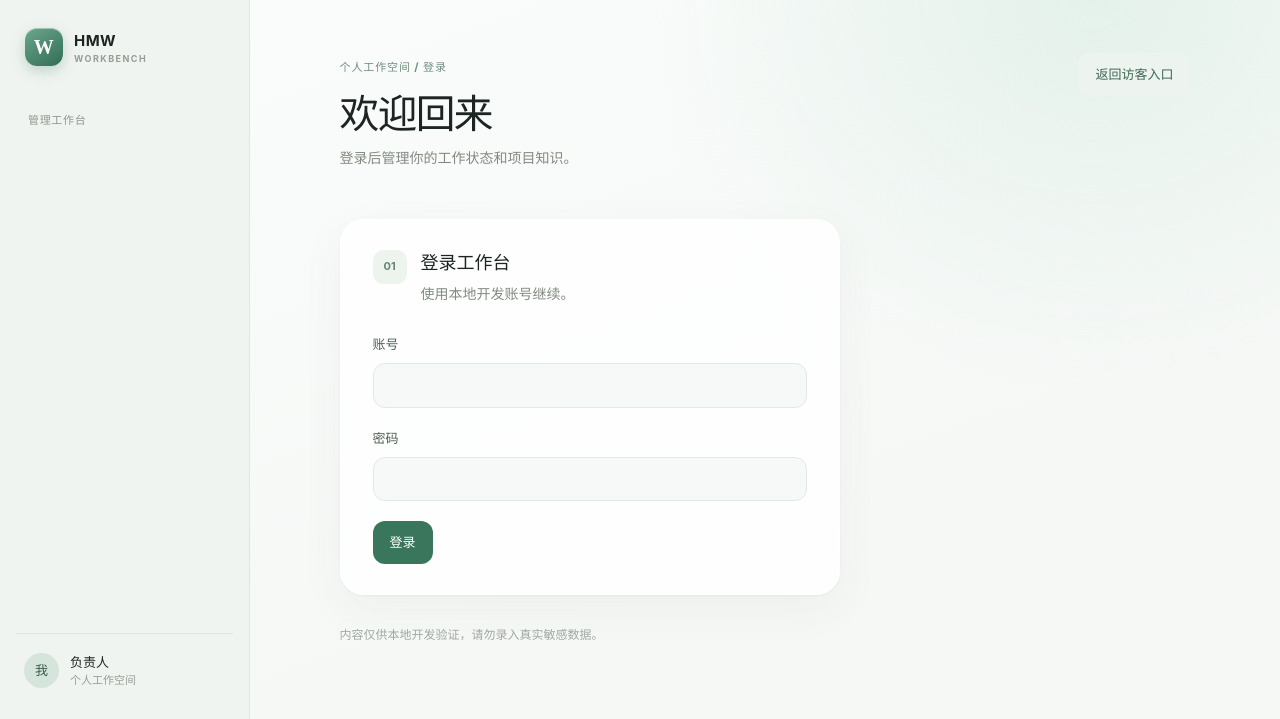
Scenario: creates a project for selecting a sharing audience
This screenshot has width=1280, height=719.
Type "owner" into the field labelled "账号" at (590, 385), box [373, 363, 807, 408]
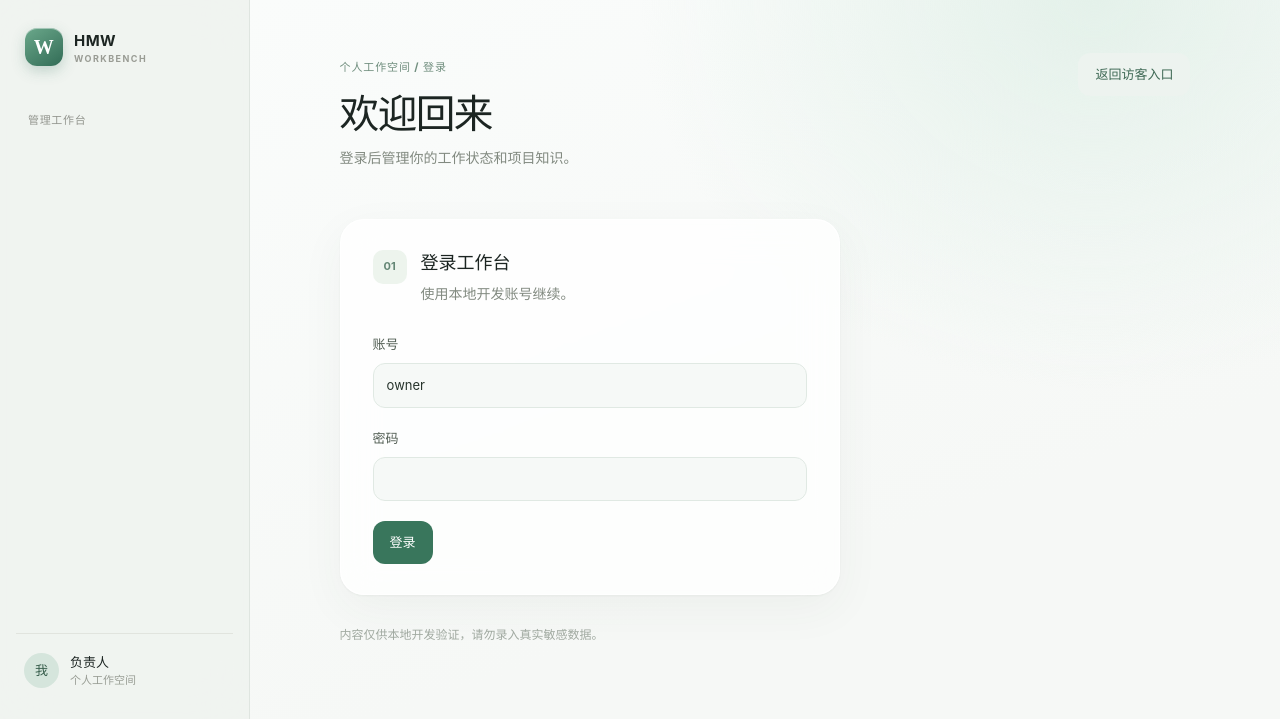
Type "password" into the password field labelled "密码" at (590, 479), box [373, 456, 807, 501]
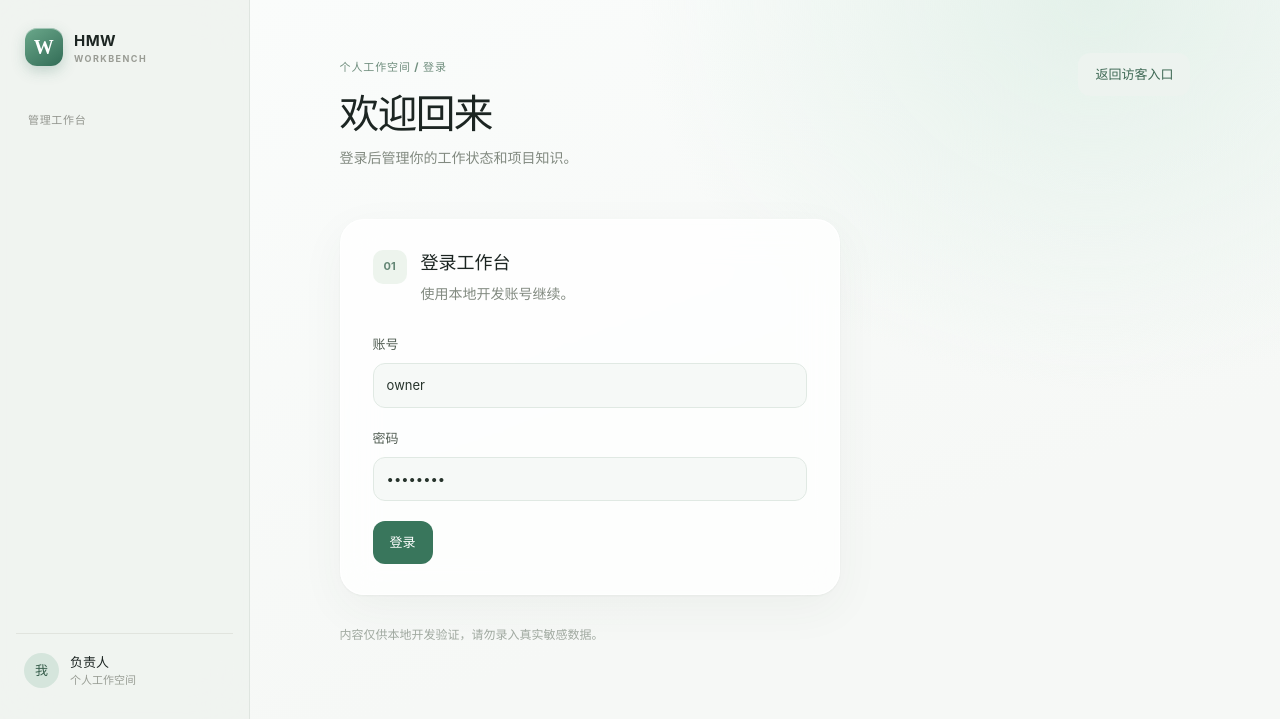
Click the button "登录" at (403, 543), box [373, 521, 433, 564]
(page scrolled)
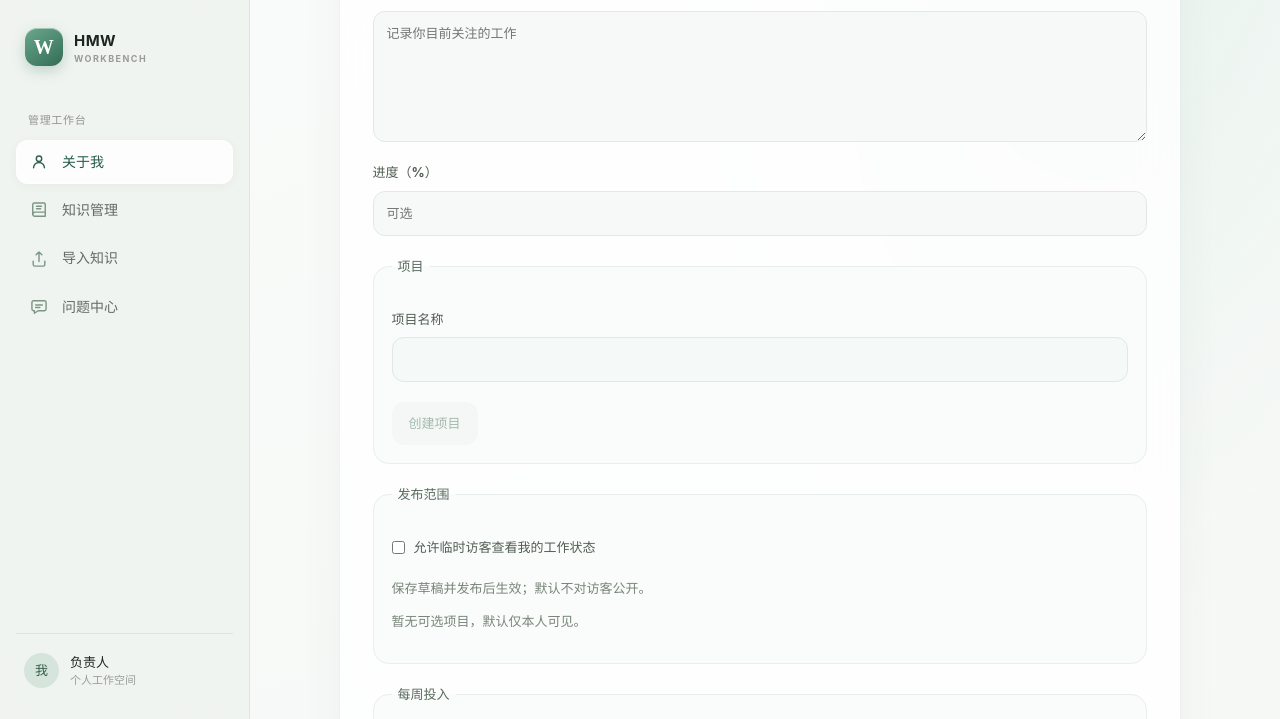
Type "示例项目" into the field labelled "项目名称" at (760, 360), box [392, 337, 1128, 382]
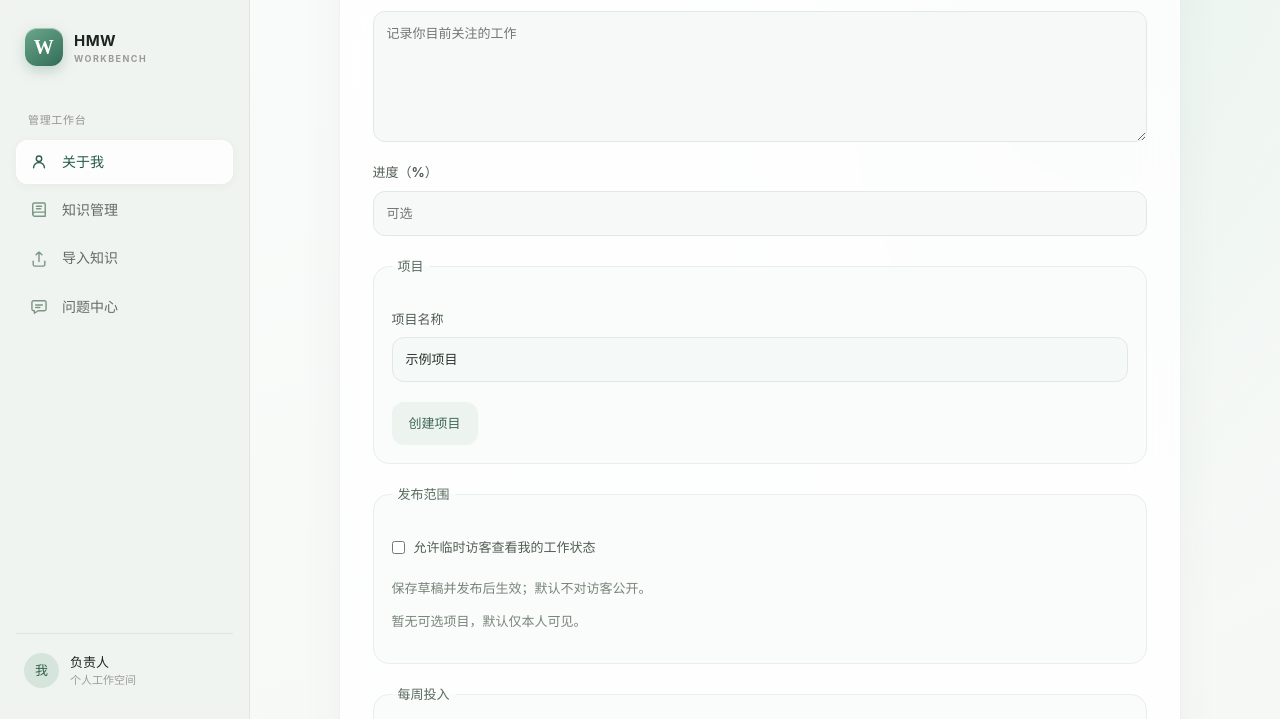
Click the button "创建项目" at (435, 424), box [392, 402, 478, 445]
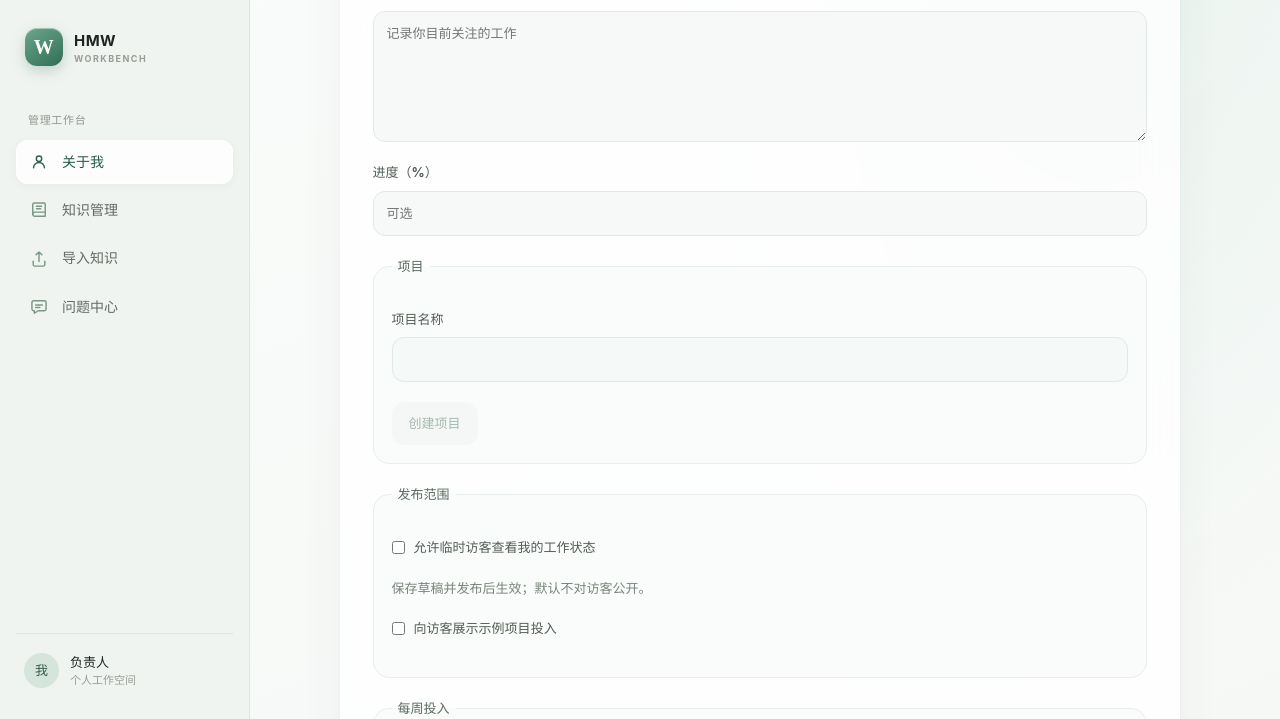
Now the checkbox labelled "向访客展示示例项目投入" is shown, box [392, 622, 405, 635]
